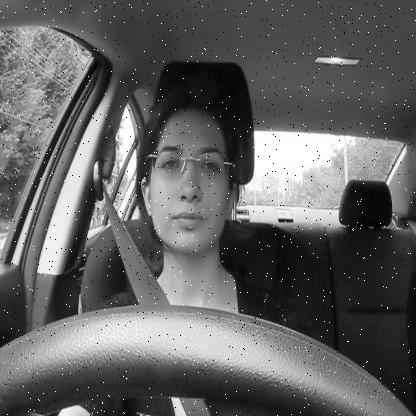seatbelt: (92, 68, 250, 416)
